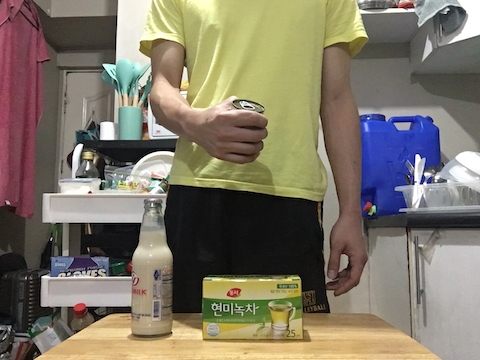bottle: (125, 197, 180, 340)
box: (199, 272, 307, 344)
can: (227, 97, 267, 123)
grab: (210, 109, 274, 166)
